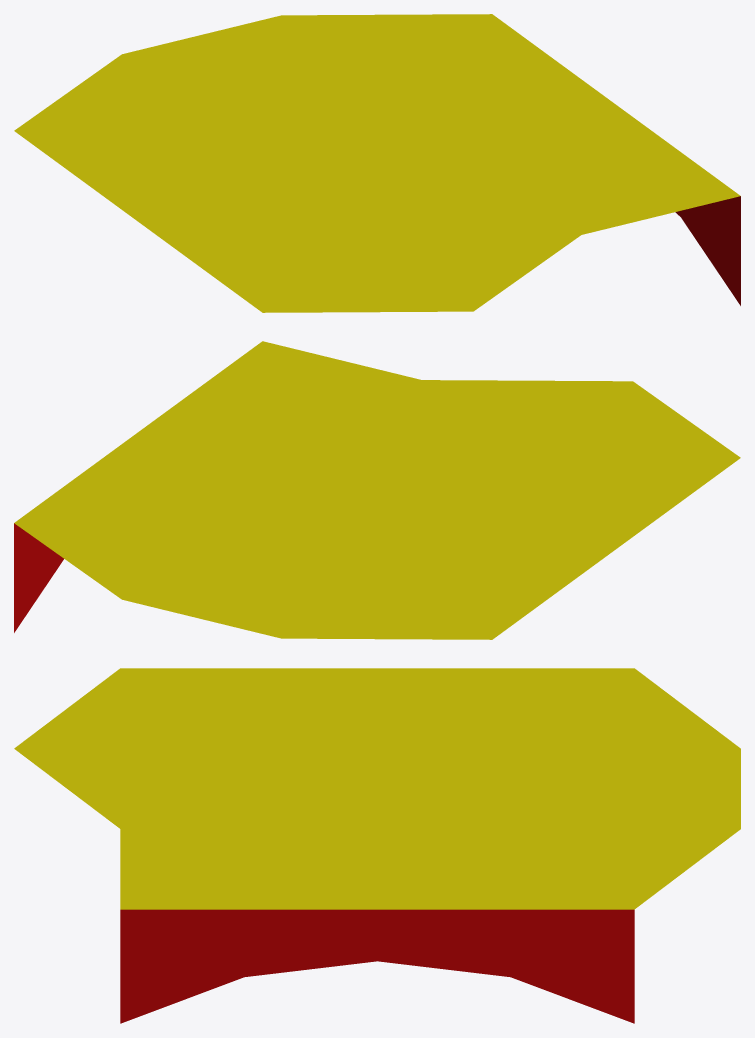
File: BridgePlatform.fbx
The picture shows the model from 3 angles, top to bottom: view 1: azimuth 30°, elevation 25°; view 2: azimuth 150°, elevation 25°; view 3: azimuth 270°, elevation 25°; orthographic projection. The views are drawn at different scales.
Visible parts, largest first — view 1: BridgePlatform; view 2: BridgePlatform; view 3: BridgePlatform.
Boxes of the visible parts, box(x1,y1,x2,y2) form: BridgePlatform: box(14, 14, 740, 312); BridgePlatform: box(14, 341, 740, 639); BridgePlatform: box(14, 668, 740, 1023).
Bounding box in the file's own units: 100 × 22.06 × 127.
